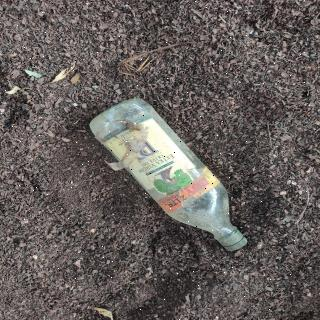Plastic-bottle: (85, 95, 252, 256)
